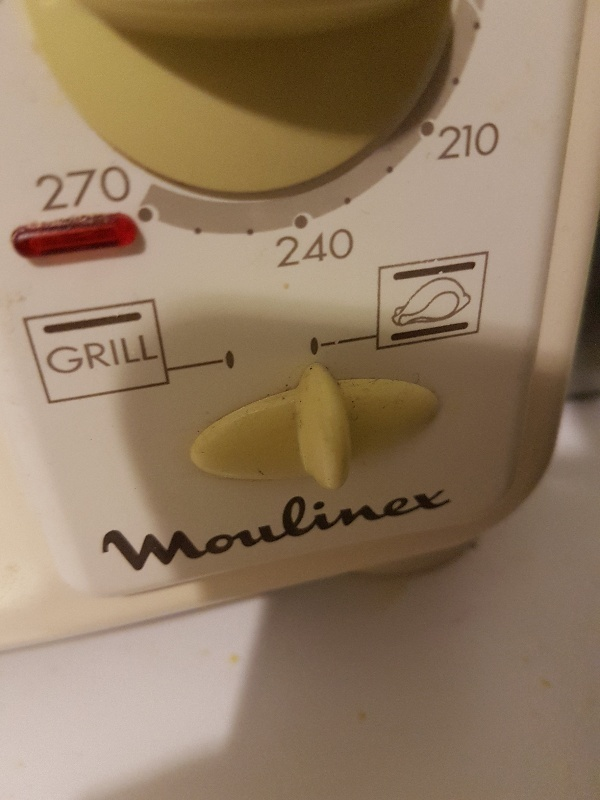text: (97, 472, 112, 577), (113, 472, 128, 577), (129, 472, 144, 577), (145, 472, 160, 577), (161, 472, 176, 577), (177, 472, 192, 577), (193, 472, 208, 577), (209, 472, 224, 577), (225, 472, 240, 577), (241, 472, 256, 577), (257, 472, 272, 577), (273, 472, 288, 577), (289, 472, 304, 577), (305, 472, 320, 577), (321, 472, 336, 577), (337, 472, 352, 577), (353, 472, 368, 577), (369, 472, 384, 577), (385, 472, 400, 577), (401, 472, 416, 577), (417, 472, 432, 577), (433, 472, 448, 577), (49, 165, 64, 213), (65, 165, 80, 213), (81, 165, 96, 213), (97, 165, 112, 213), (113, 165, 128, 213), (49, 332, 64, 378), (65, 332, 80, 378), (81, 332, 96, 378), (97, 332, 112, 378), (113, 332, 128, 378), (129, 332, 144, 378), (145, 332, 160, 378), (289, 227, 304, 269), (305, 227, 320, 269), (321, 227, 336, 269), (337, 227, 352, 269), (35, 165, 48, 213), (449, 120, 464, 161), (465, 120, 480, 161), (481, 120, 496, 161), (275, 227, 288, 269), (449, 472, 453, 577), (439, 120, 448, 161), (93, 472, 96, 577), (129, 165, 133, 213), (45, 332, 48, 378), (497, 120, 500, 161), (353, 227, 355, 269)
